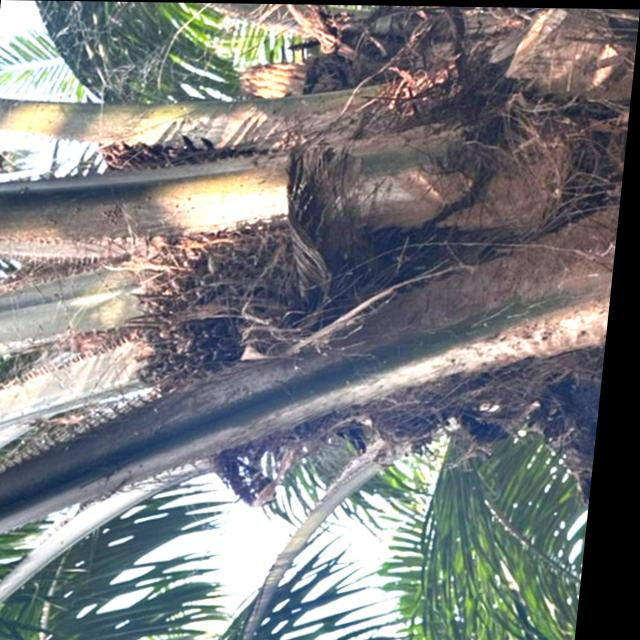unripe: (115, 208, 354, 417)
